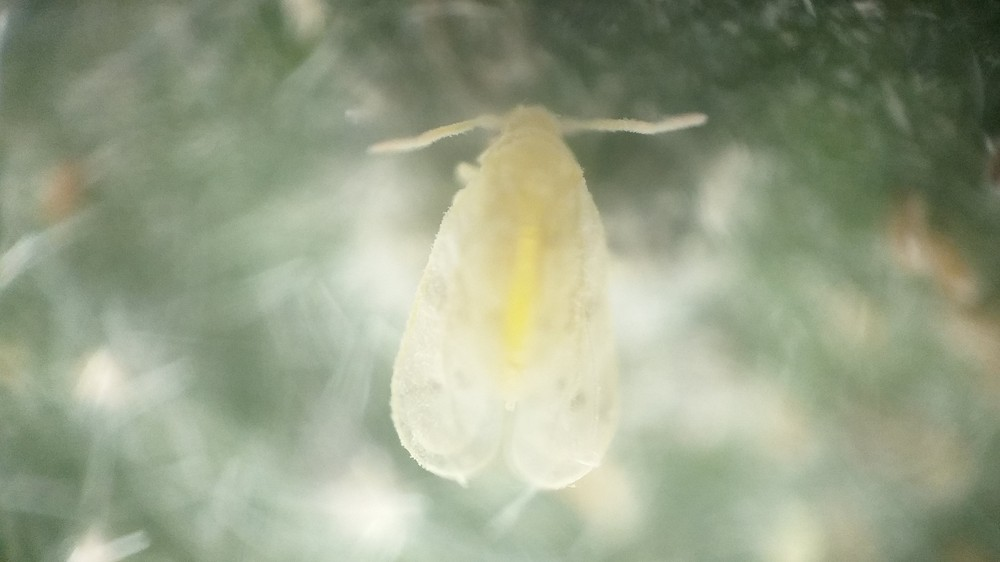Mosca Blanca: (347, 84, 738, 504)
